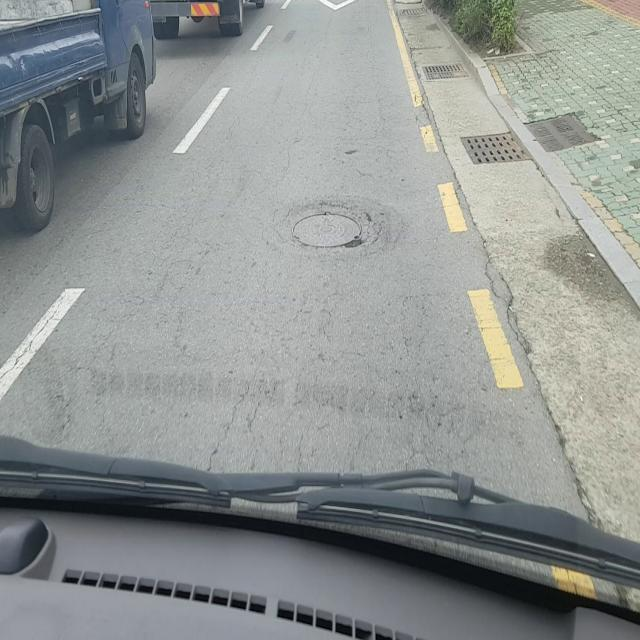Pothole: (290, 209, 366, 251)
